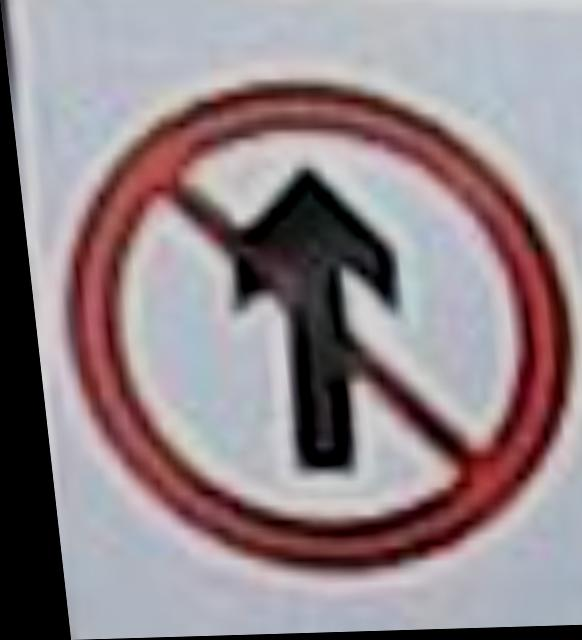not_go_straight: (32, 64, 582, 595)
